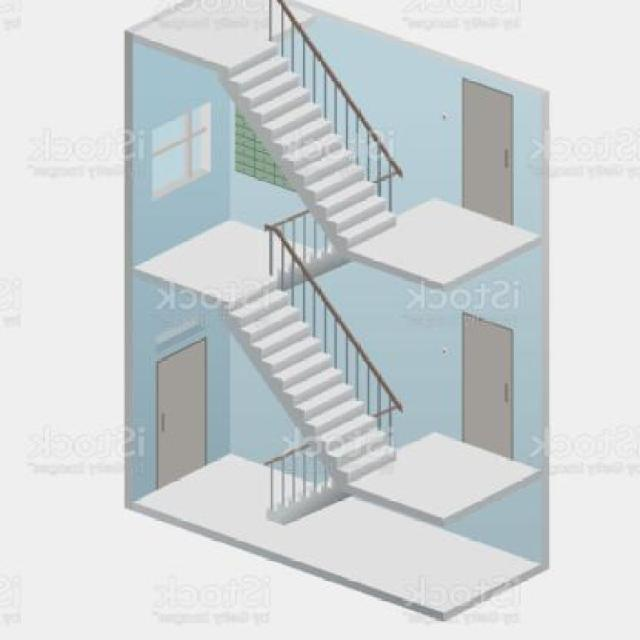stair: (202, 7, 424, 231), (202, 236, 428, 427), (248, 430, 418, 530)
